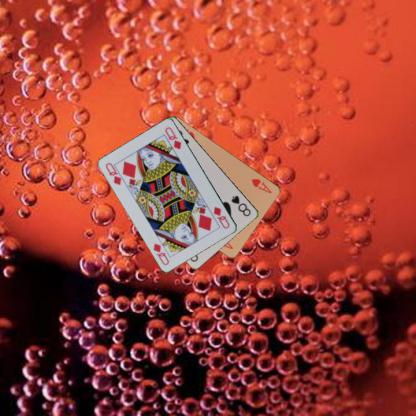8s: (229, 193, 252, 218)
Ah: (249, 176, 273, 194)
Qd: (103, 160, 127, 187), (211, 204, 231, 230)
